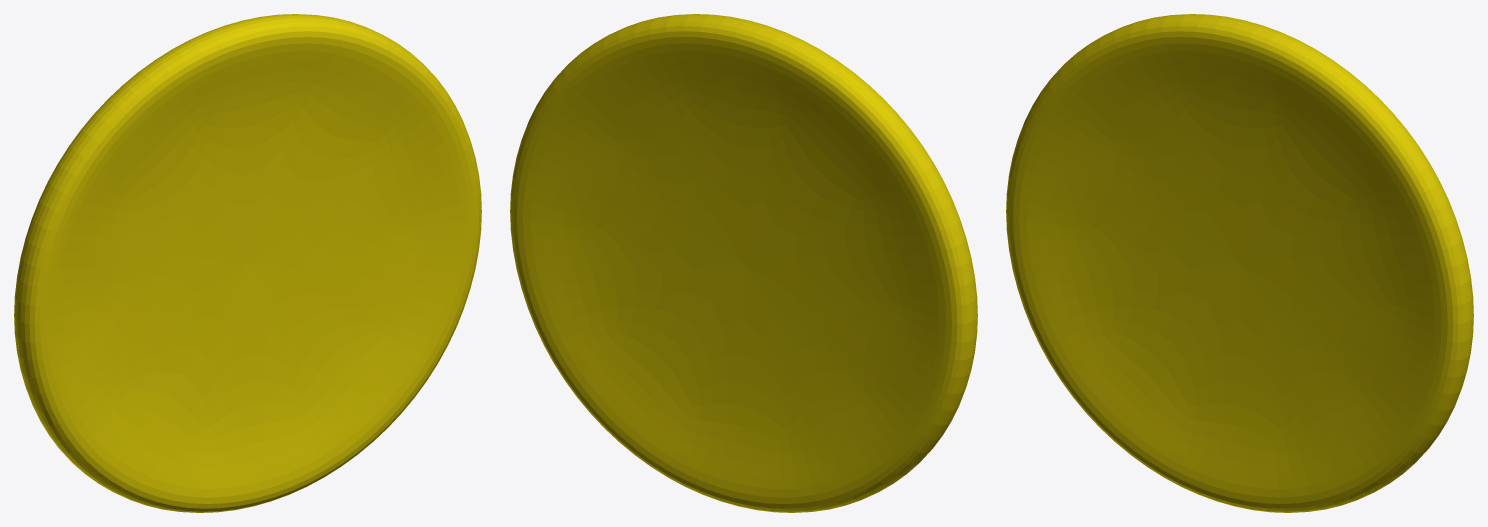
Rendered from chipY.glb.
The picture shows the model from 3 angles, left to right: view 1: azimuth 30°, elevation 25°; view 2: azimuth 150°, elevation 25°; view 3: azimuth 330°, elevation 25°; orthographic projection.
Visible parts, largest first — view 1: Cylinder; view 2: Cylinder; view 3: Cylinder.
Part boxes in pixels (x1,y1,x2,y2): Cylinder: [14, 14, 481, 512]; Cylinder: [510, 14, 977, 512]; Cylinder: [1006, 14, 1473, 512].
Size of the model in its own units: 1.85 by 1.85 by 0.1328.
